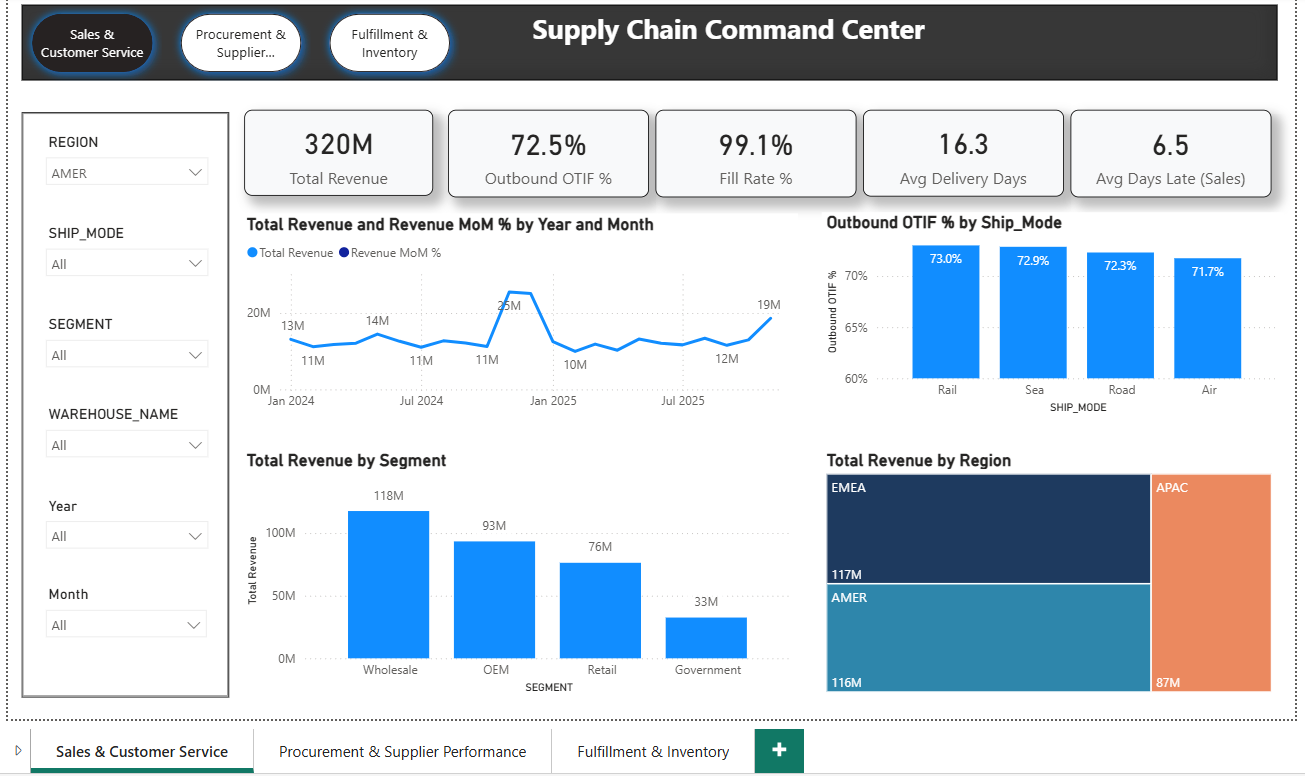

This screenshot's page, from the dashboard's own definition file:
{"tool":"powerbi","page":{"name":"Sales & Customer Service","canvas":[1280,720],"ordinal":0},"visuals":[{"type":"textbox","box":[13.9,8.3,1249.5,74.8],"z":0},{"type":"card","fields":{"Values":["FACT_SALES_ORDERS.Total Revenue"]},"box":[235.7,113.3,188.4,85.9],"z":1000},{"type":"card","fields":{"Values":["FACT_SALES_ORDERS.Outbound OTIF %"]},"box":[438.3,113.2,200,87.1],"z":2000},{"type":"card","fields":{"Values":["FACT_SALES_ORDERS.Fill Rate %"]},"box":[644.5,113.2,200,87.1],"z":3000},{"type":"card","fields":{"Values":["FACT_SALES_ORDERS.Avg Delivery Days"]},"box":[850.6,113.1,200,86.6],"z":4000},{"type":"card","fields":{"Values":["FACT_SALES_ORDERS.Avg Days Late (Sales)"]},"box":[1057.6,113.2,200,87.1],"z":5000},{"type":"lineChart","fields":{"Y":["FACT_SALES_ORDERS.Total Revenue"],"Y2":["FACT_SALES_ORDERS.Revenue MoM %"],"Category":["DIM_DATE.FULL_DATE.Variation.Date Hierarchy.Year","DIM_DATE.FULL_DATE.Variation.Date Hierarchy.Month"]},"box":[232.6,216.4,553.6,205.3],"z":6000},{"type":"columnChart","title":"Outbound OTIF % by Ship_Mode","fields":{"Category":["DIM_SHIP_MODE.SHIP_MODE"],"Y":["FACT_SALES_ORDERS.Outbound OTIF %"]},"box":[809.8,215.2,460.3,205.3],"z":7000},{"type":"lineStackedColumnComboChart","title":"Total Revenue by Segment","fields":{"Category":["DIM_CUSTOMER.SEGMENT"],"Y":["FACT_SALES_ORDERS.Total Revenue"]},"box":[232.6,451.5,553.6,247.5],"z":8000},{"type":"treemap","title":"Total Revenue by Region","fields":{"Group":["DIM_CUSTOMER.REGION"],"Values":["FACT_SALES_ORDERS.Total Revenue"]},"box":[809.8,451.5,452.8,246.3],"z":9000},{"type":"shape","box":[13.7,115.7,206.5,582.2],"z":10000},{"type":"slicer","fields":{"Values":["DIM_WAREHOUSE.REGION"]},"box":[27.4,132.5,181.8,75],"z":11000},{"type":"slicer","fields":{"Values":["DIM_SHIP_MODE.SHIP_MODE"]},"box":[27.4,222.7,181.8,75],"z":12000},{"type":"slicer","fields":{"Values":["DIM_CUSTOMER.SEGMENT"]},"box":[27.4,312.9,181.8,75],"z":13000},{"type":"slicer","fields":{"Values":["DIM_WAREHOUSE.WAREHOUSE_NAME"]},"box":[27.4,403.1,181.8,75],"z":14000},{"type":"slicer","fields":{"Values":["DIM_DATE.FULL_DATE.Variation.Date Hierarchy.Year"]},"box":[28,493.3,181.7,74.5],"z":15000},{"type":"slicer","fields":{"Values":["DIM_DATE.FULL_DATE.Variation.Date Hierarchy.Month"]},"box":[28,582.4,180.2,76.1],"z":16000},{"type":"pageNavigator","box":[15.2,8.3,435,76.2],"z":17000}]}

Visuals, with their boxes in screenshot pixels (x1, y1, x2, y2):
textbox: BBox(21, 2, 1277, 77)
card - FACT_SALES_ORDERS.Total Revenue: BBox(244, 107, 433, 193)
card - FACT_SALES_ORDERS.Outbound OTIF %: BBox(447, 107, 649, 195)
card - FACT_SALES_ORDERS.Fill Rate %: BBox(655, 107, 856, 195)
card - FACT_SALES_ORDERS.Avg Delivery Days: BBox(862, 107, 1063, 194)
card - FACT_SALES_ORDERS.Avg Days Late (Sales): BBox(1070, 107, 1271, 195)
lineChart - FACT_SALES_ORDERS.Total Revenue x FACT_SALES_ORDERS.Revenue MoM %: BBox(241, 211, 797, 417)
"Outbound OTIF % by Ship_Mode" columnChart: BBox(821, 210, 1284, 416)
"Total Revenue by Segment" lineStackedColumnComboChart: BBox(241, 447, 797, 696)
"Total Revenue by Region" treemap: BBox(821, 447, 1276, 695)
shape: BBox(21, 110, 228, 695)
slicer - DIM_WAREHOUSE.REGION: BBox(34, 126, 217, 202)
slicer - DIM_SHIP_MODE.SHIP_MODE: BBox(34, 217, 217, 293)
slicer - DIM_CUSTOMER.SEGMENT: BBox(34, 308, 217, 383)
slicer - DIM_WAREHOUSE.WAREHOUSE_NAME: BBox(34, 398, 217, 474)
slicer - DIM_DATE.FULL_DATE.Variation.Date Hierarchy.Year: BBox(35, 489, 218, 564)
slicer - DIM_DATE.FULL_DATE.Variation.Date Hierarchy.Month: BBox(35, 579, 216, 655)
pageNavigator: BBox(22, 2, 459, 78)
